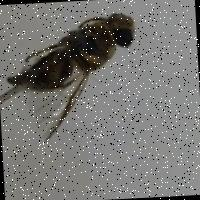Oriental-fruit-fly: (0, 0, 150, 154)
